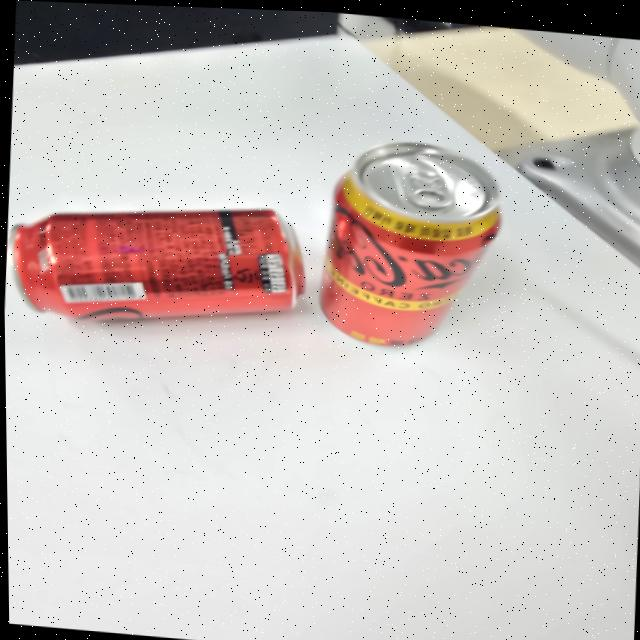can_coke_decaf: (317, 138, 499, 347)
can_coke_zero: (8, 209, 304, 324)
